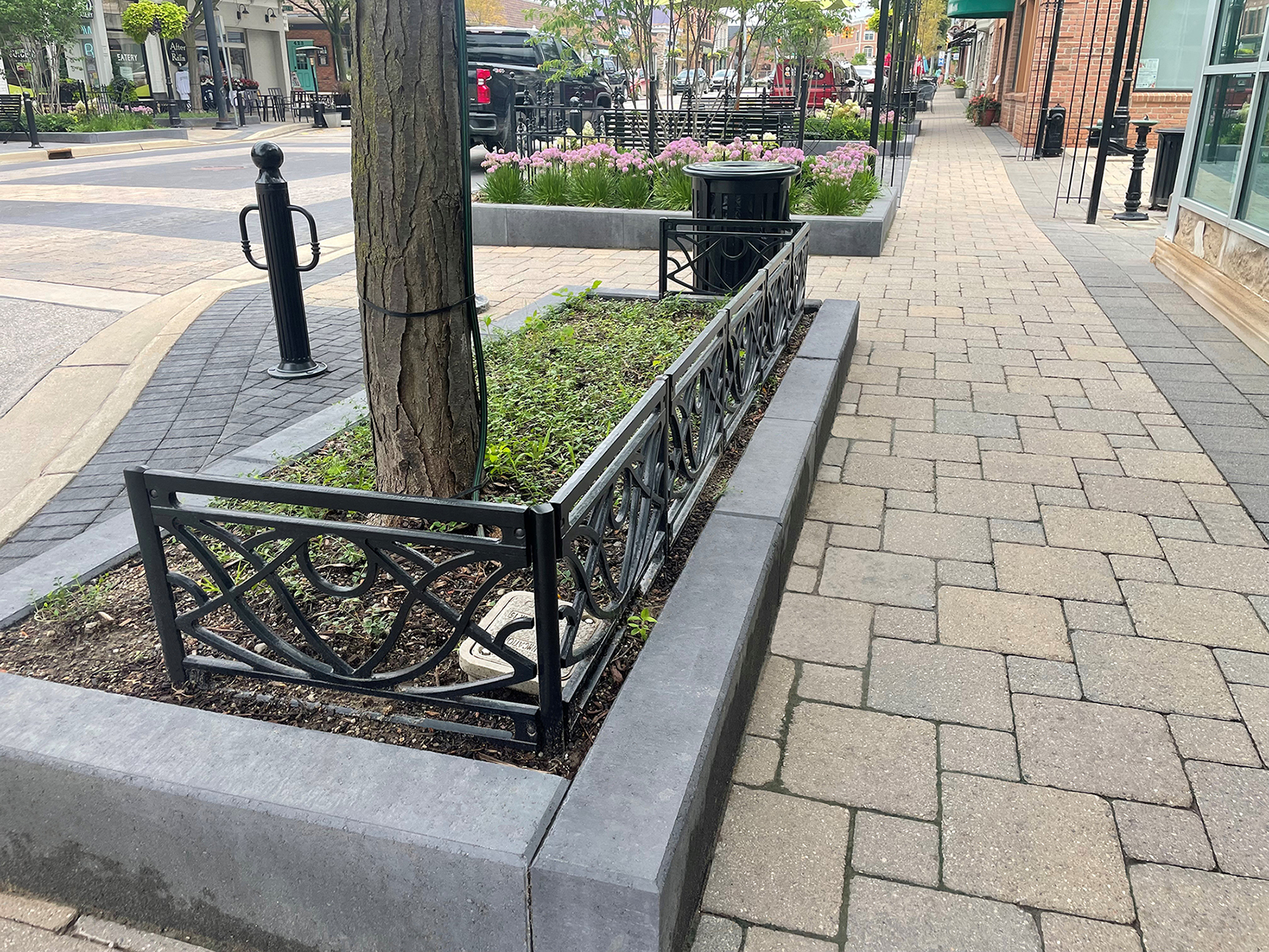Fence: (131, 470, 605, 766), (571, 218, 825, 725)
